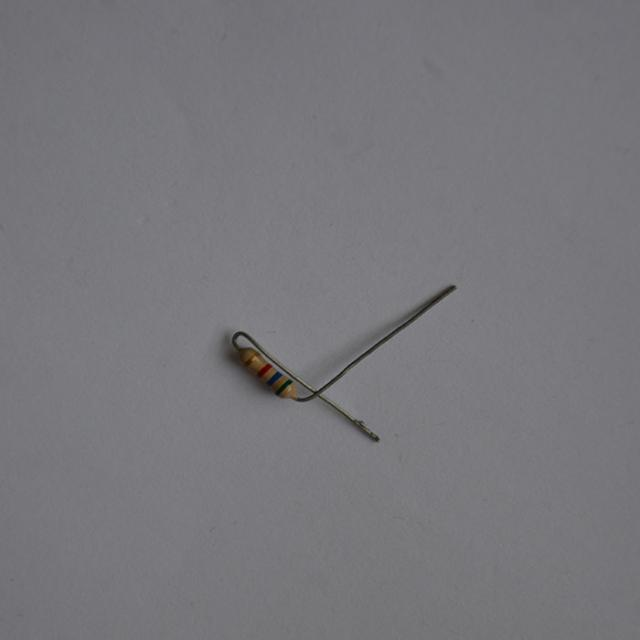blue: (267, 372, 283, 385)
gold: (244, 349, 259, 367)
green: (275, 379, 293, 395)
red: (257, 363, 272, 377)
resistor: (229, 339, 302, 404)
